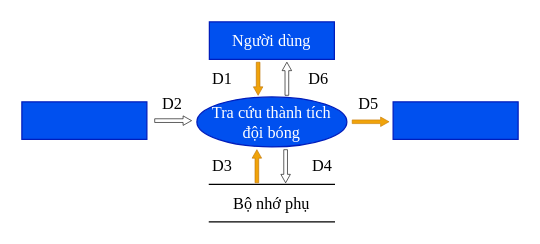
Image size: 540x244. Some labels were removed from this diagram. The shapes that lost their labels are listed below. From the top down, each one's box as (x1, y1, x2, y2) in pixels, then its label:
(21, 101, 147, 139): Thiết bị nhập
(392, 101, 518, 139): Thiết bị xuất
